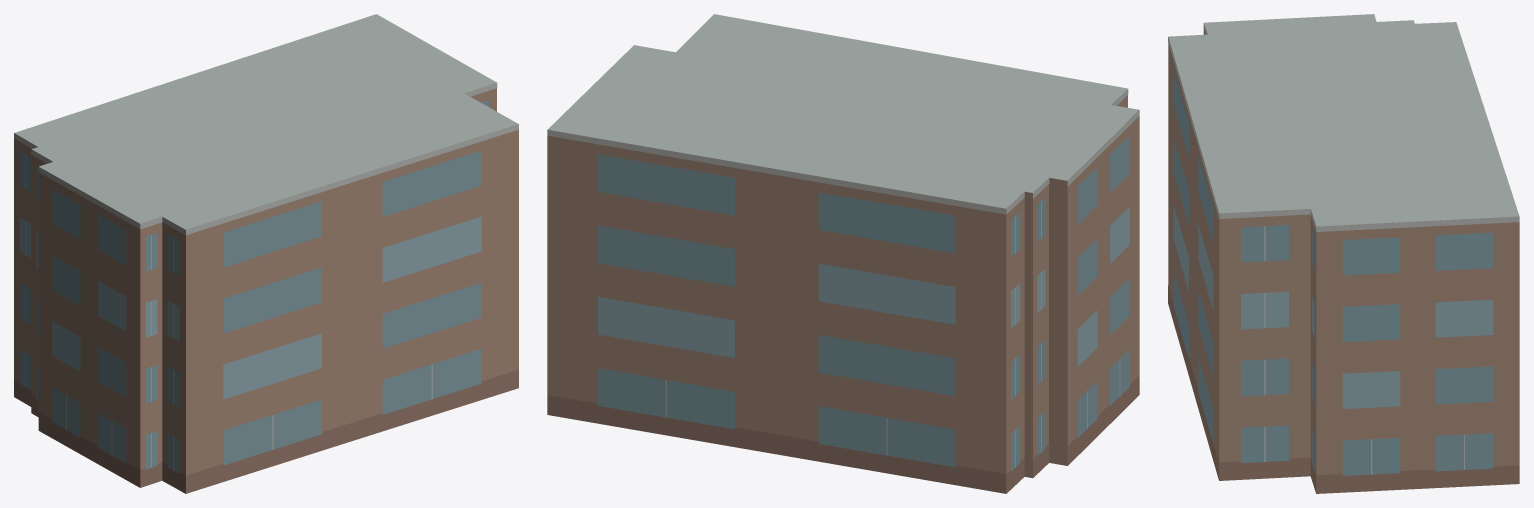
Rendered from survey-upis-32658963.glb.
The picture shows the model from 3 angles, left to right: view 1: azimuth 30°, elevation 25°; view 2: azimuth 150°, elevation 25°; view 3: azimuth 270°, elevation 25°; orthographic projection. The views are drawn at different scales.
Parts seen in each view (by area): view 1: survey-upis-32658963.tmp; view 2: survey-upis-32658963.tmp; view 3: survey-upis-32658963.tmp.
Boxes of the visible parts, box(x1,y1,x2,y2) form: survey-upis-32658963.tmp: box(14, 14, 518, 493); survey-upis-32658963.tmp: box(547, 14, 1139, 493); survey-upis-32658963.tmp: box(1168, 14, 1519, 493).
Size of the model in its own units: 19.95 by 11.7 by 13.95.
